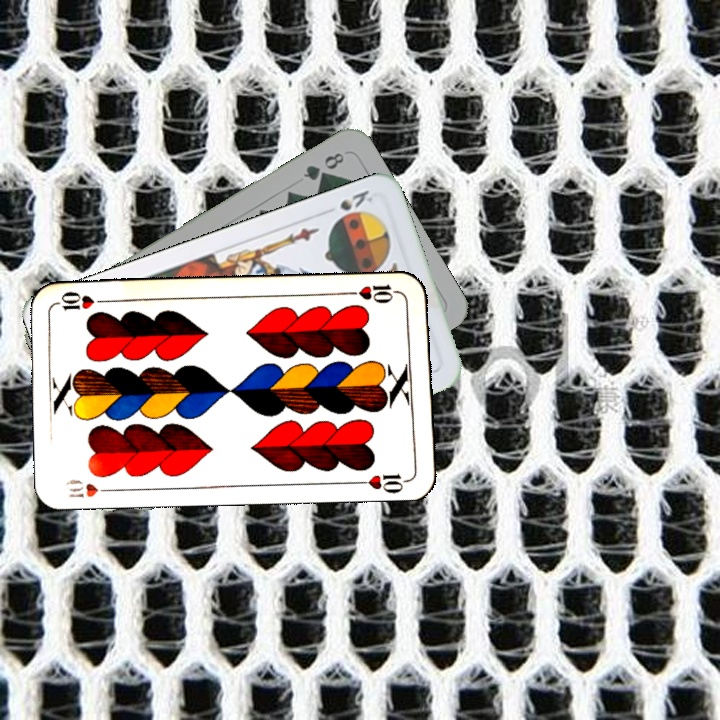G8: (299, 148, 347, 184)
H10: (345, 280, 404, 306), (62, 475, 119, 500)
SK: (335, 186, 376, 214)
